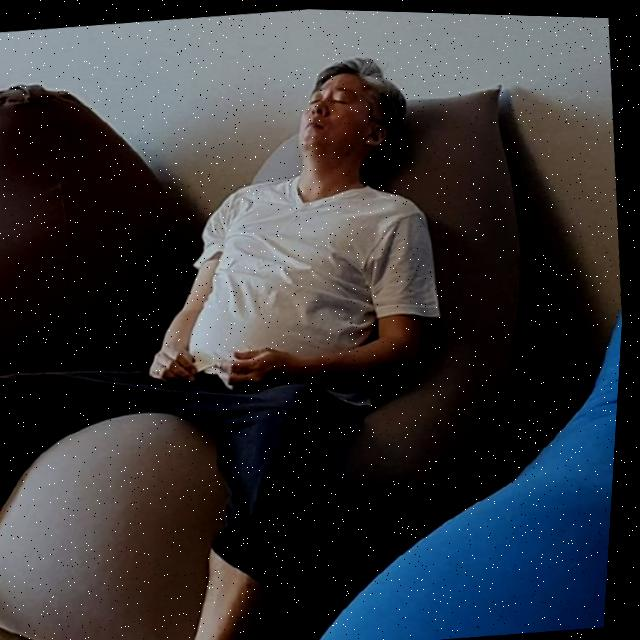sleeping-person: (0, 8, 544, 640)
